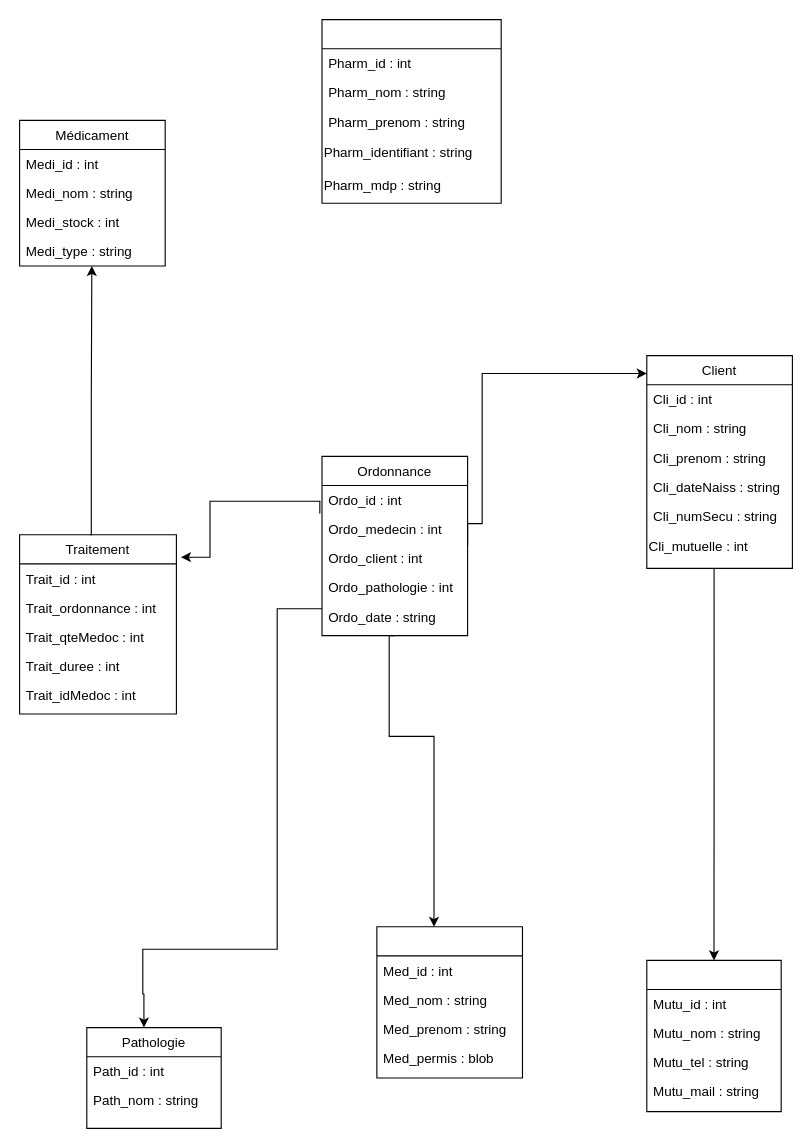
The diagram is 812 pixels wide and 1148 high, and some of its shapes have lost their labels. Here are the shapes that lost their labels. From the top down, the box of each, then its label:
(321, 18, 501, 203): Pharmacien
(376, 926, 522, 1078): Médecin
(646, 959, 781, 1112): Mutuelle
